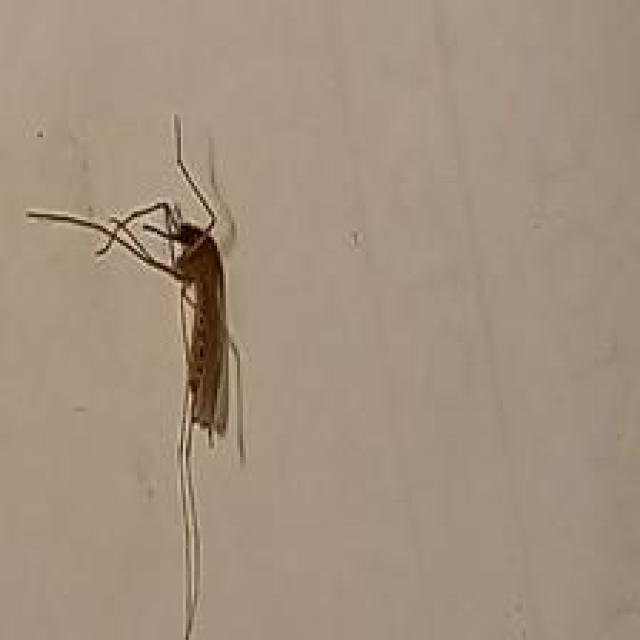Culex: (25, 111, 248, 640)
